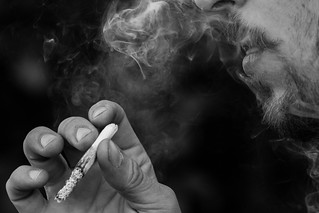cigarette: (53, 121, 120, 205)
